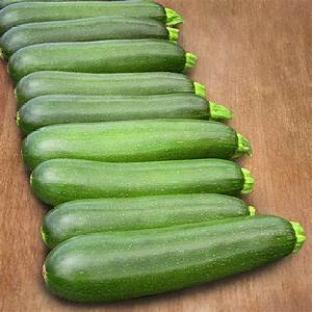Zucchini: (43, 217, 304, 302), (42, 194, 254, 248), (22, 120, 251, 168), (31, 160, 253, 205), (17, 93, 231, 133), (9, 39, 196, 81), (0, 16, 178, 57), (16, 71, 205, 106), (0, 2, 183, 35)
